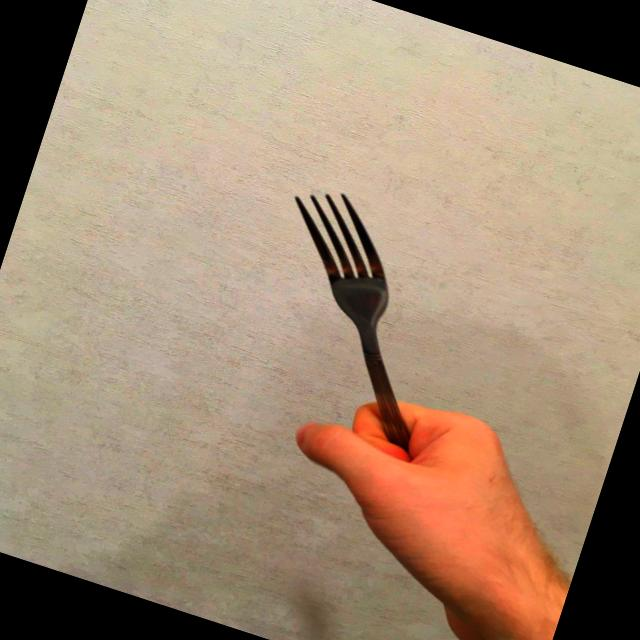fork: (222, 177, 488, 468)
